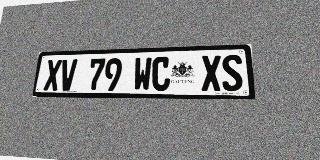7: (87, 58, 106, 91)
9: (104, 58, 122, 91)
C: (151, 56, 170, 91)
S: (221, 54, 243, 91)
V: (59, 59, 77, 91)
W: (133, 57, 152, 91)
X: (201, 55, 222, 91), (43, 60, 62, 91)
